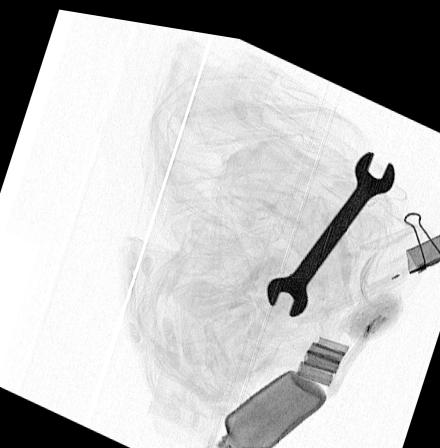Wrench: (264, 136, 395, 306)
